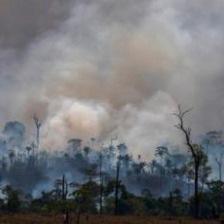incendio: (38, 180, 108, 211), (133, 137, 192, 173), (10, 139, 78, 169), (125, 184, 178, 203)
